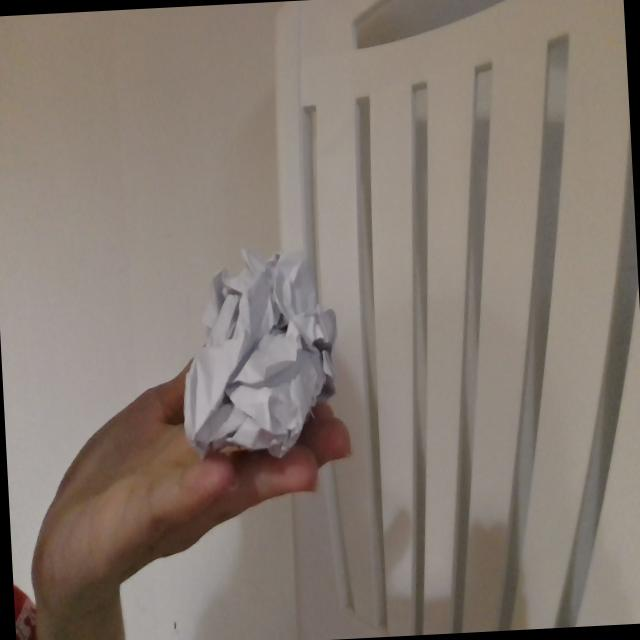crumpled_paper: (168, 240, 348, 470)
